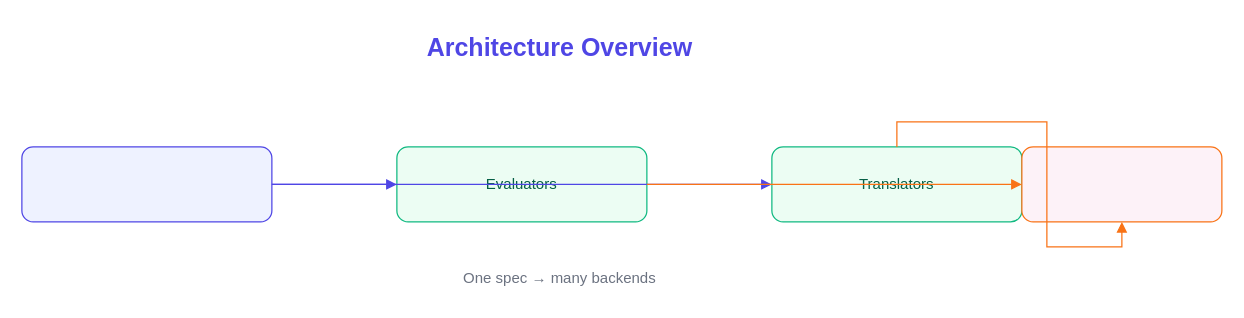
Image size: 1244x318. Some labels were removed from this diagram. Each missing label, with the centre of its shape:
"Stores" belongs at point (1121, 184).
"Vali-Flow.Core" belongs at point (146, 184).
